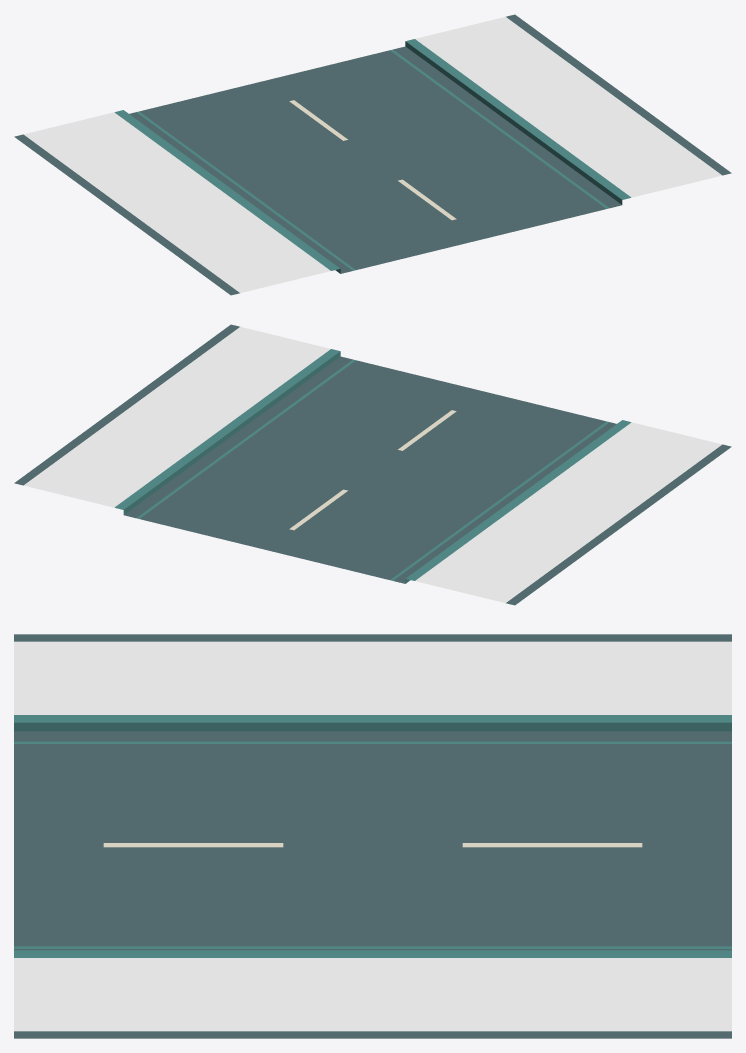
Rendered from KC32__AD_Ext_Street_Straight.glb.
3 views of the same model, one above another, from view 1: azimuth 30°, elevation 25°; view 2: azimuth 150°, elevation 25°; view 3: azimuth 270°, elevation 25° (orthographic). The views are drawn at different scales.
Visible parts, largest first — view 1: KC32_CORPS__AD_Ext_Street_Straight, KC32_ACCENT__AD_Ext_Street_Straight, KC32_LUMIERE__AD_Ext_Street_Straight; view 2: KC32_CORPS__AD_Ext_Street_Straight, KC32_ACCENT__AD_Ext_Street_Straight, KC32_LUMIERE__AD_Ext_Street_Straight; view 3: KC32_CORPS__AD_Ext_Street_Straight, KC32_ACCENT__AD_Ext_Street_Straight, KC32_LUMIERE__AD_Ext_Street_Straight.
Part boxes in pixels (x1,y1,x2,y2): KC32_CORPS__AD_Ext_Street_Straight: (14,14,731,295); KC32_ACCENT__AD_Ext_Street_Straight: (23,17,722,292); KC32_LUMIERE__AD_Ext_Street_Straight: (289,100,456,220); KC32_CORPS__AD_Ext_Street_Straight: (14,324,731,605); KC32_ACCENT__AD_Ext_Street_Straight: (23,327,722,602); KC32_LUMIERE__AD_Ext_Street_Straight: (289,410,456,530); KC32_CORPS__AD_Ext_Street_Straight: (14,634,731,1038); KC32_ACCENT__AD_Ext_Street_Straight: (14,641,731,1031); KC32_LUMIERE__AD_Ext_Street_Straight: (103,843,642,847).
Bounding box in the file's own units: 16 × 0.16 × 12.
